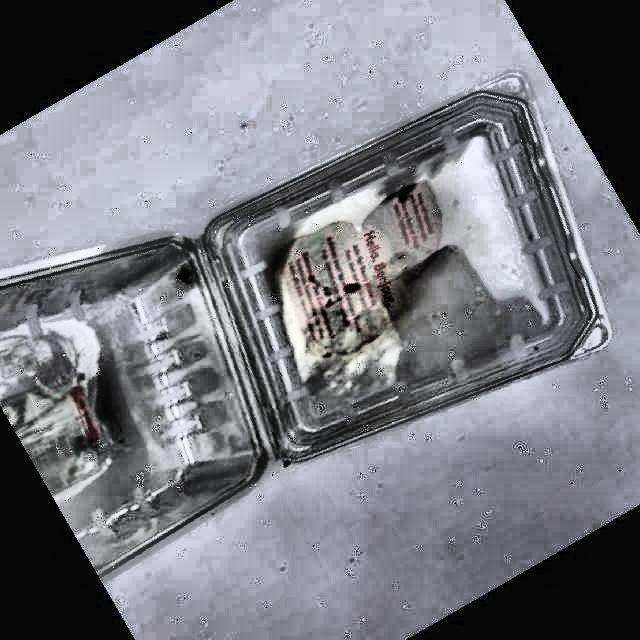plastic: (0, 75, 610, 574)
